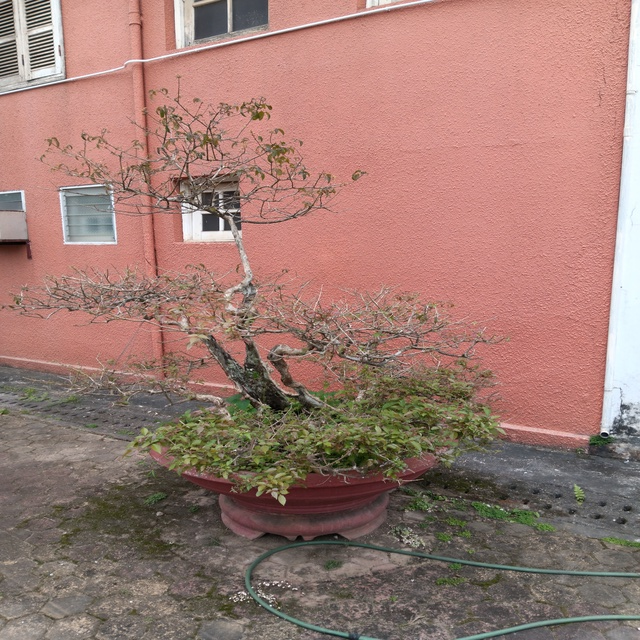caycanh: (69, 101, 495, 542)
